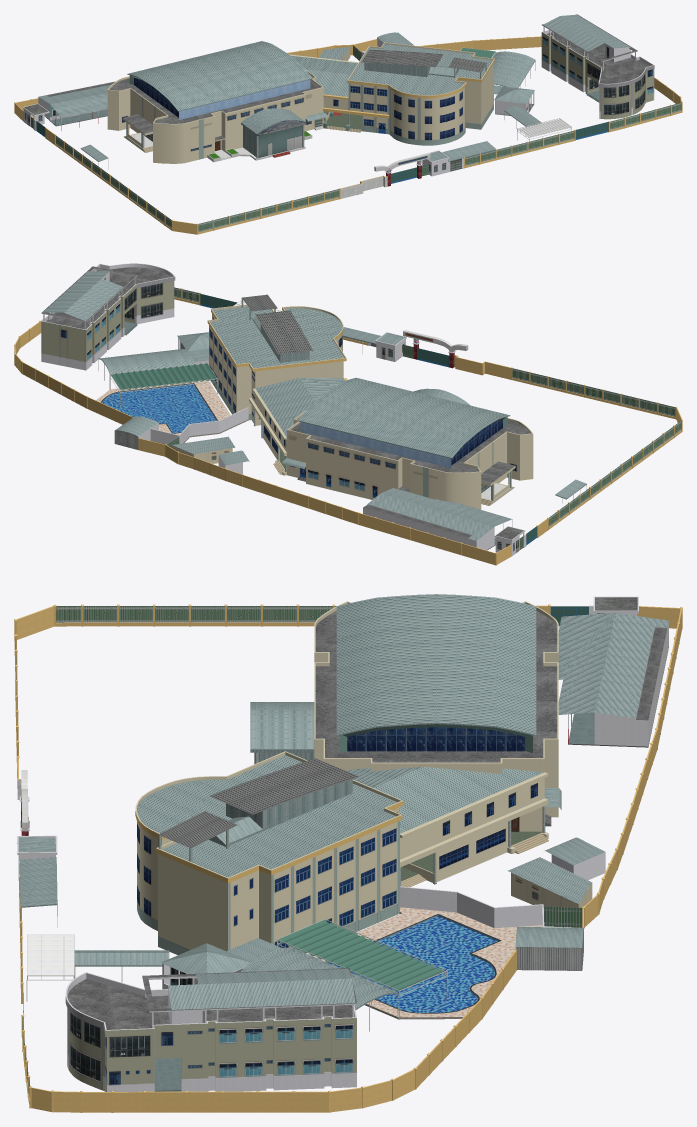
The model's file is TrungTamHoatDongThanhThieuNhiTinhBinhPhuoc_trungtamanhng.glb.
The picture shows the model from 3 angles, top to bottom: view 1: azimuth 30°, elevation 25°; view 2: azimuth 150°, elevation 25°; view 3: azimuth 270°, elevation 25°; orthographic projection. The views are drawn at different scales.
Parts seen in each view (by area): view 1: BPH006_TrungTamHoatDongThanhThieuNhiTinhBinhPhuoc_nha, BPH006_TrungTamHoatDongThanhThieuNhiTinhBinhPhuoc_hangrao_ho, BPH006_TrungTamHoatDongThanhThieuNhiTinhBinhPhuoc_nhanghitha, BPH006_TrungTamHoatDongThanhThieuNhiTinhBinhPhuoc_trungtaman, BPH006_TrungTamHoatDongThanhThieuNhiTinhBinhPhuoc_kho; view 2: BPH006_TrungTamHoatDongThanhThieuNhiTinhBinhPhuoc_nha, BPH006_TrungTamHoatDongThanhThieuNhiTinhBinhPhuoc_hangrao_ho, BPH006_TrungTamHoatDongThanhThieuNhiTinhBinhPhuoc_nhanghitha, BPH006_TrungTamHoatDongThanhThieuNhiTinhBinhPhuoc_trungtaman, BPH006_TrungTamHoatDongThanhThieuNhiTinhBinhPhuoc_kho, BPH006_TrungTamHoatDongThanhThieuNhiTinhBinhPhuoc_nhavesinh; view 3: BPH006_TrungTamHoatDongThanhThieuNhiTinhBinhPhuoc_nha, BPH006_TrungTamHoatDongThanhThieuNhiTinhBinhPhuoc_hangrao_ho, BPH006_TrungTamHoatDongThanhThieuNhiTinhBinhPhuoc_nhanghitha, BPH006_TrungTamHoatDongThanhThieuNhiTinhBinhPhuoc_trungtaman, BPH006_TrungTamHoatDongThanhThieuNhiTinhBinhPhuoc_kho, BPH006_TrungTamHoatDongThanhThieuNhiTinhBinhPhuoc_nhavesinh.
Part boxes in pixels (x1=…): BPH006_TrungTamHoatDongThanhThieuNhiTinhBinhPhuoc_nha: x1=107, y1=41, x2=494, y2=163; BPH006_TrungTamHoatDongThanhThieuNhiTinhBinhPhuoc_hangrao_ho: x1=14, y1=32, x2=682, y2=234; BPH006_TrungTamHoatDongThanhThieuNhiTinhBinhPhuoc_nhanghitha: x1=541, y1=14, x2=654, y2=119; BPH006_TrungTamHoatDongThanhThieuNhiTinhBinhPhuoc_trungtaman: x1=38, y1=81, x2=114, y2=130; BPH006_TrungTamHoatDongThanhThieuNhiTinhBinhPhuoc_kho: x1=319, y1=46, x2=350, y2=60; BPH006_TrungTamHoatDongThanhThieuNhiTinhBinhPhuoc_nha: x1=207, y1=294, x2=533, y2=509; BPH006_TrungTamHoatDongThanhThieuNhiTinhBinhPhuoc_hangrao_ho: x1=14, y1=287, x2=682, y2=565; BPH006_TrungTamHoatDongThanhThieuNhiTinhBinhPhuoc_nhanghitha: x1=41, y1=263, x2=175, y2=370; BPH006_TrungTamHoatDongThanhThieuNhiTinhBinhPhuoc_trungtaman: x1=363, y1=488, x2=512, y2=550; BPH006_TrungTamHoatDongThanhThieuNhiTinhBinhPhuoc_kho: x1=171, y1=436, x2=235, y2=463; BPH006_TrungTamHoatDongThanhThieuNhiTinhBinhPhuoc_nhavesinh: x1=218, y1=450, x2=249, y2=473; BPH006_TrungTamHoatDongThanhThieuNhiTinhBinhPhuoc_nha: x1=135, y1=594, x2=561, y2=954; BPH006_TrungTamHoatDongThanhThieuNhiTinhBinhPhuoc_hangrao_ho: x1=14, y1=596, x2=682, y2=1112; BPH006_TrungTamHoatDongThanhThieuNhiTinhBinhPhuoc_nhanghitha: x1=65, y1=968, x2=356, y2=1091; BPH006_TrungTamHoatDongThanhThieuNhiTinhBinhPhuoc_trungtaman: x1=558, y1=612, x2=668, y2=747; BPH006_TrungTamHoatDongThanhThieuNhiTinhBinhPhuoc_kho: x1=507, y1=857, x2=592, y2=907; BPH006_TrungTamHoatDongThanhThieuNhiTinhBinhPhuoc_nhavesinh: x1=545, y1=837, x2=605, y2=880.
Size of the model in its own units: 151 by 17.22 by 87.4.
6 materials, 6 textured.
